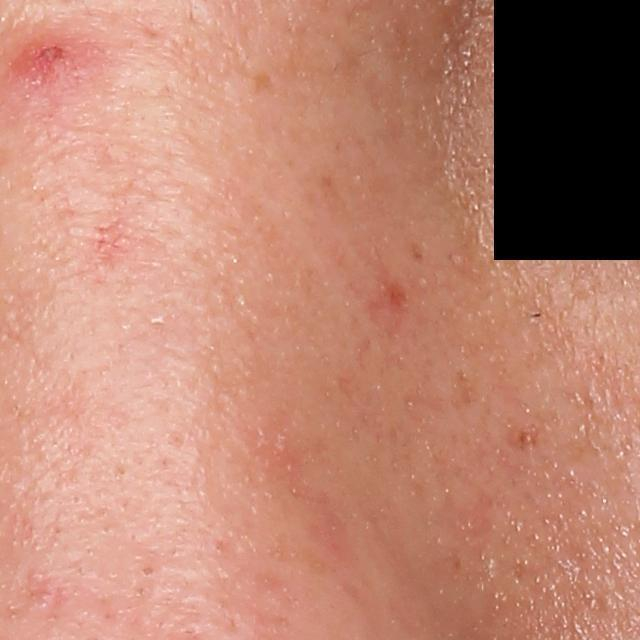comedo: (140, 564, 157, 578)
melasma: (410, 239, 426, 261)
papule: (7, 25, 89, 82)
